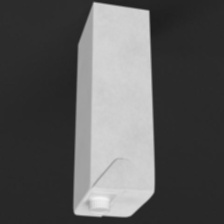carton: (69, 0, 163, 220)
